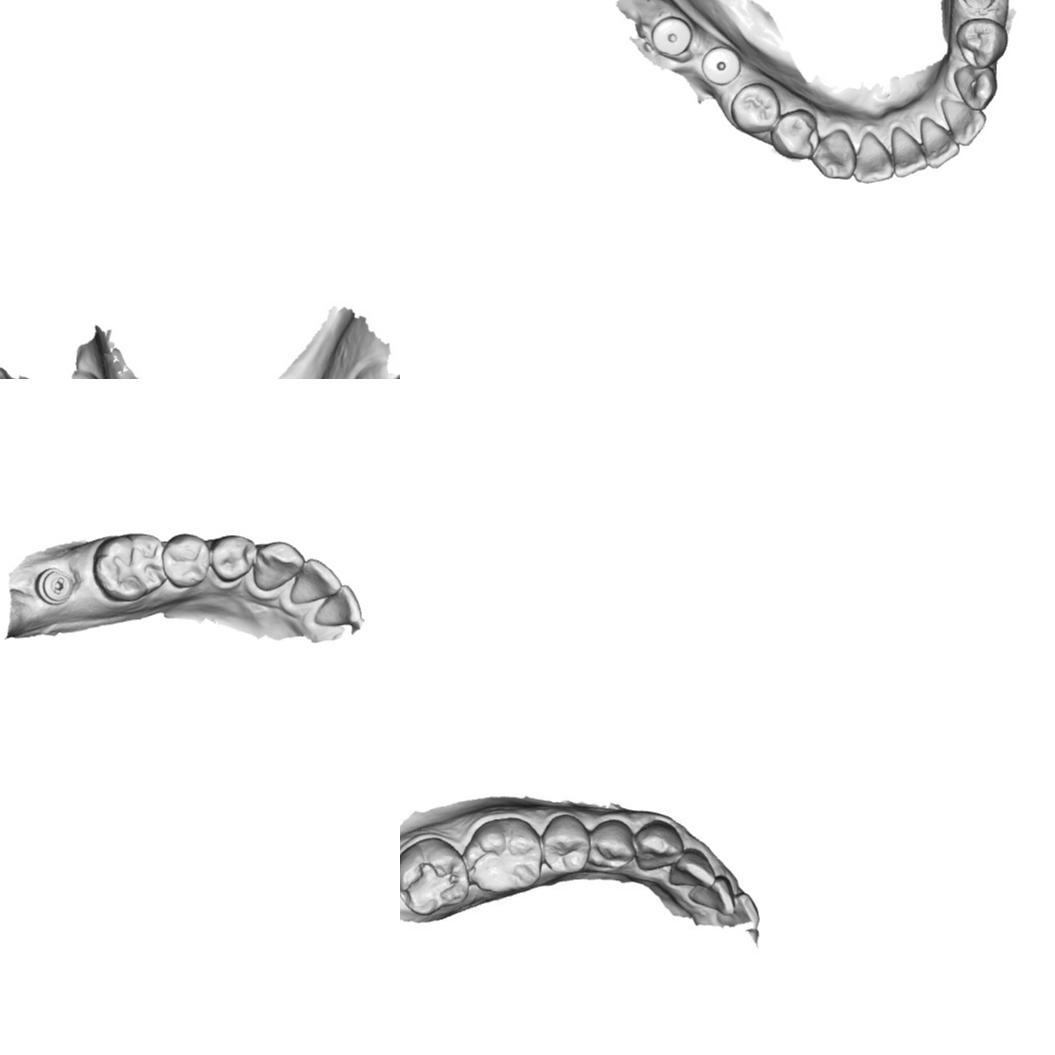canine: (252, 539, 306, 593), (631, 820, 683, 875), (810, 129, 856, 180), (952, 63, 997, 111)
crown: (957, 0, 1001, 11)
implant: (650, 15, 692, 57), (700, 45, 742, 86)
implant_minus: (34, 564, 75, 606)
incisor: (288, 557, 344, 608), (312, 582, 362, 633), (940, 96, 987, 146), (685, 876, 741, 916), (852, 130, 894, 183), (918, 116, 960, 169), (890, 125, 928, 178), (674, 852, 716, 897)
molar: (92, 529, 168, 603), (400, 836, 467, 915), (471, 823, 541, 897)
premolar: (159, 531, 212, 590), (955, 17, 1009, 69), (729, 82, 782, 134), (544, 812, 588, 874), (210, 531, 259, 583), (770, 108, 818, 160), (587, 819, 634, 870)
